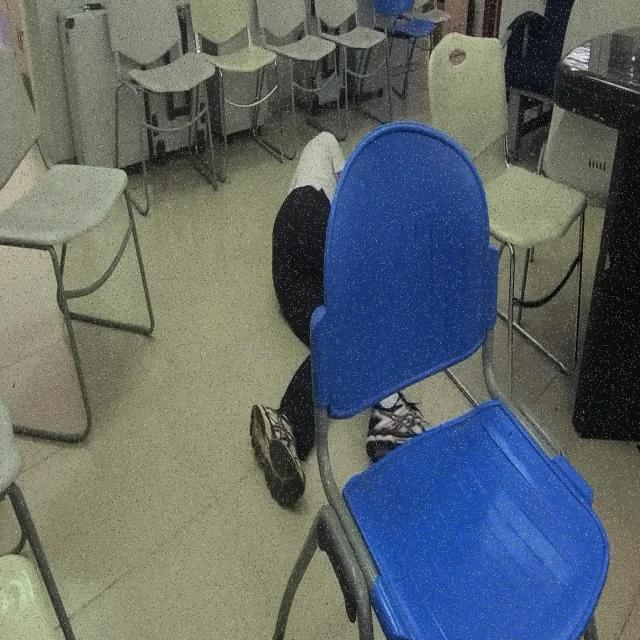fall: (246, 121, 442, 509)
